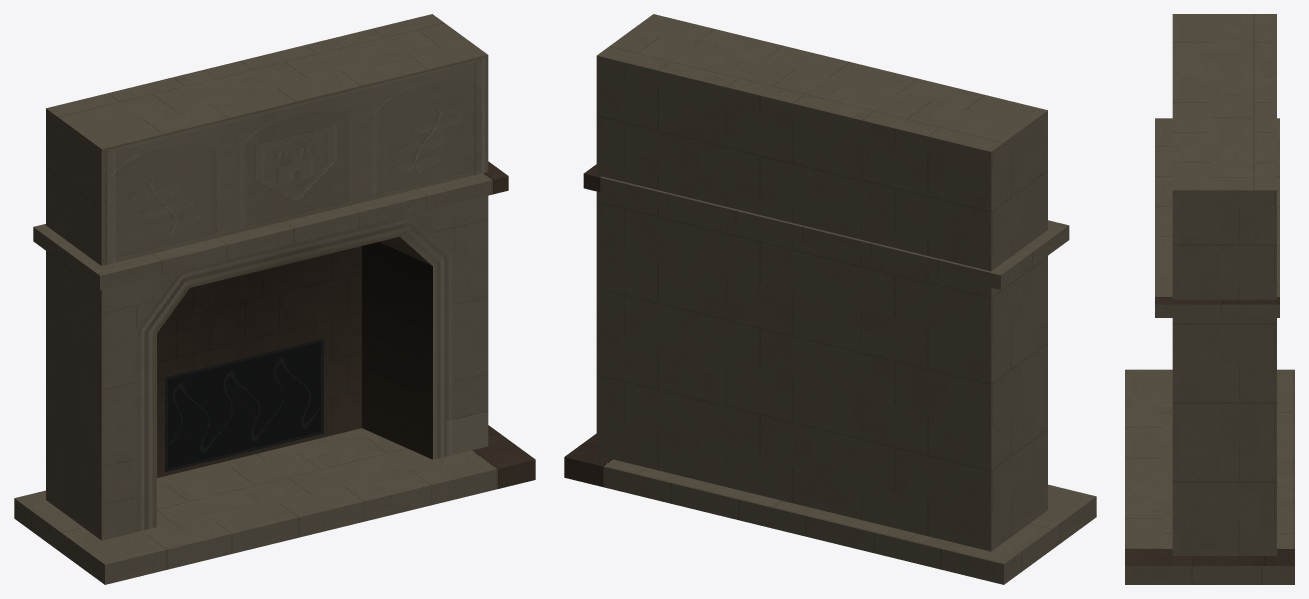
The model's file is procedural-refinement.glb.
The picture shows the model from 3 angles, left to right: view 1: azimuth 30°, elevation 25°; view 2: azimuth 150°, elevation 25°; view 3: azimuth 270°, elevation 25°; orthographic projection. The views are drawn at different scales.
Parts seen in each view (by area): view 1: Castle fireplace / real backed opening and supported mantel; view 2: Castle fireplace / real backed opening and supported mantel; view 3: Castle fireplace / real backed opening and supported mantel.
Boxes of the visible parts, box(x1,y1,x2,y2) form: Castle fireplace / real backed opening and supported mantel: box(14, 14, 535, 584); Castle fireplace / real backed opening and supported mantel: box(564, 14, 1096, 584); Castle fireplace / real backed opening and supported mantel: box(1125, 14, 1294, 584).
Bounding box in the file's own units: 3.12 × 2.85 × 1.14.
Materials: 1 (1 with a texture image).
